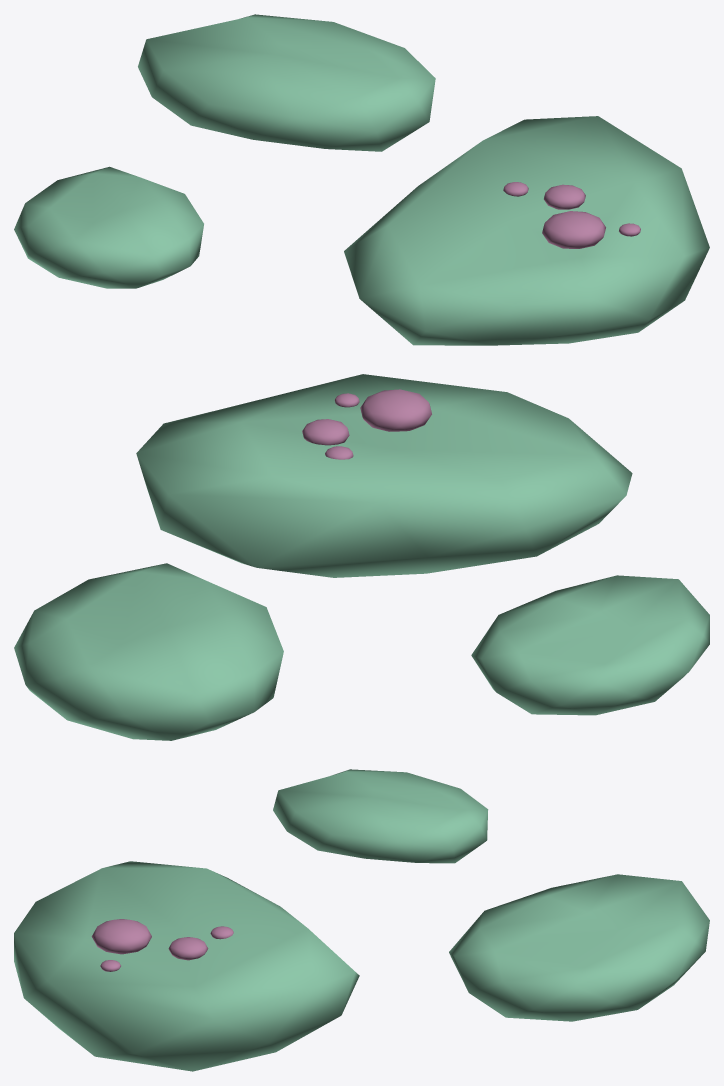
The model's file is Grass Flowers.glb.
3 views of the same model, one above another, from view 1: azimuth 30°, elevation 25°; view 2: azimuth 150°, elevation 25°; view 3: azimuth 270°, elevation 25° (orthographic). The views are drawn at different scales.
Visible parts, largest first — view 1: Grass, Icosphere; view 2: Grass, Icosphere; view 3: Grass, Icosphere.
Part boxes in pixels (x1,y1,x2,y2): Grass: [14, 14, 709, 345]; Icosphere: [503, 182, 640, 248]; Grass: [14, 374, 709, 740]; Icosphere: [302, 389, 431, 459]; Grass: [14, 769, 709, 1071]; Icosphere: [91, 919, 233, 971].
Size of the model in its own units: 5.03 by 0.9261 by 5.85.
